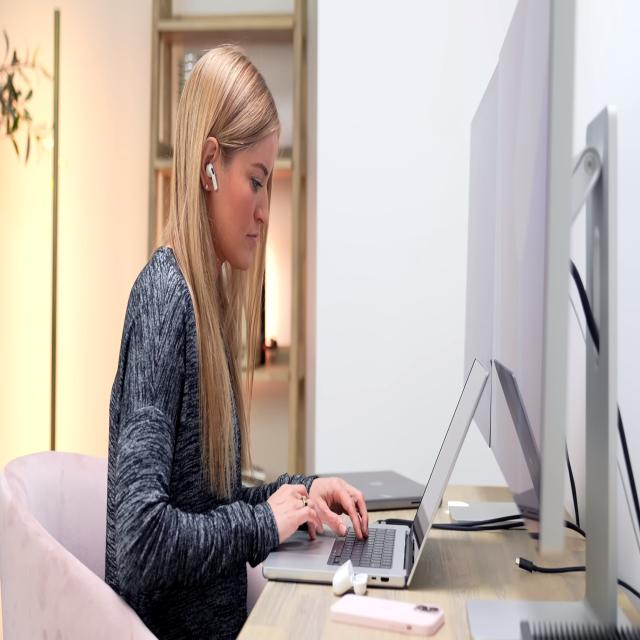airpods: (204, 161, 220, 193)
